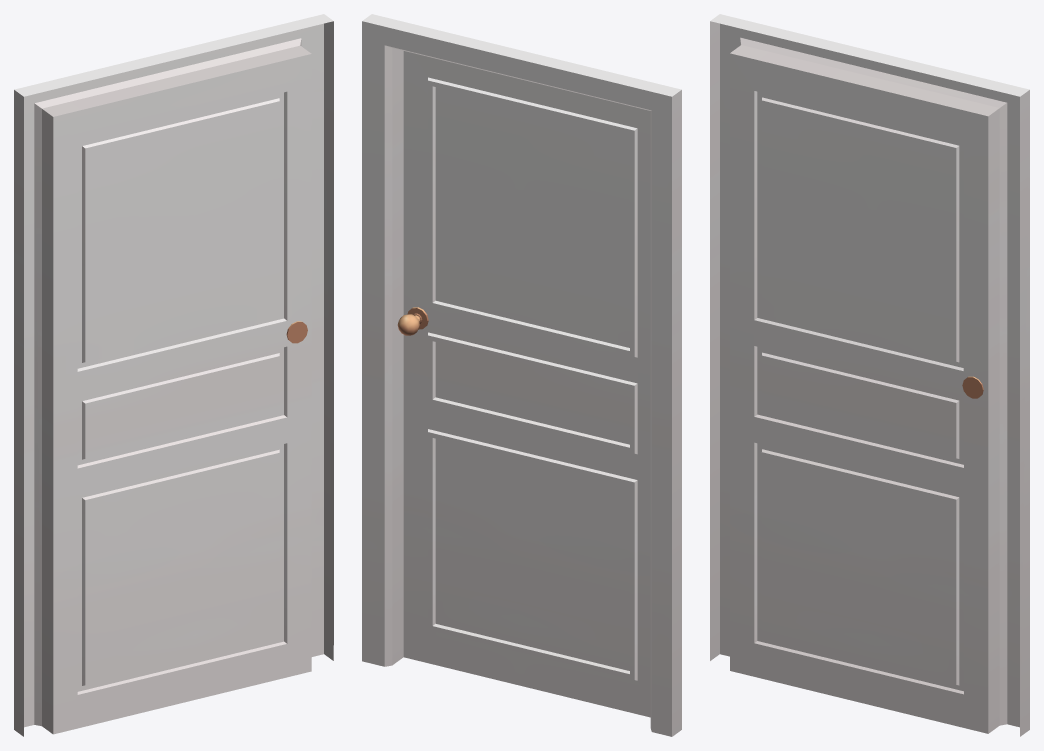
Rendered from Doll_Room_Door_001.FBX.
3 renders of one model, left to right at view 1: azimuth 30°, elevation 25°; view 2: azimuth 150°, elevation 25°; view 3: azimuth 330°, elevation 25°, orthographic.
Parts seen in each view (by area): view 1: Doll_Room_Door_001; view 2: Doll_Room_Door_001; view 3: Doll_Room_Door_001.
Boxes of the visible parts, left/top/right/bottom form: Doll_Room_Door_001: left=14, top=14, right=333, bottom=736; Doll_Room_Door_001: left=362, top=14, right=681, bottom=736; Doll_Room_Door_001: left=710, top=14, right=1029, bottom=736.
Size of the model in its own units: 98.59 by 195 by 8.85.
